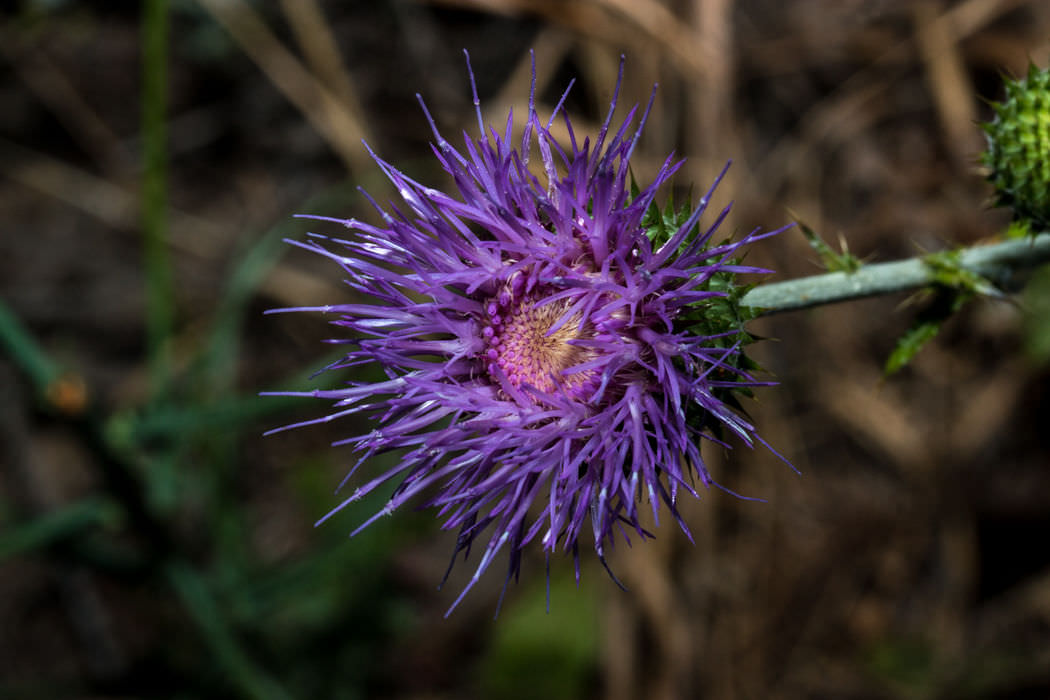thistle: (292, 54, 781, 573)
